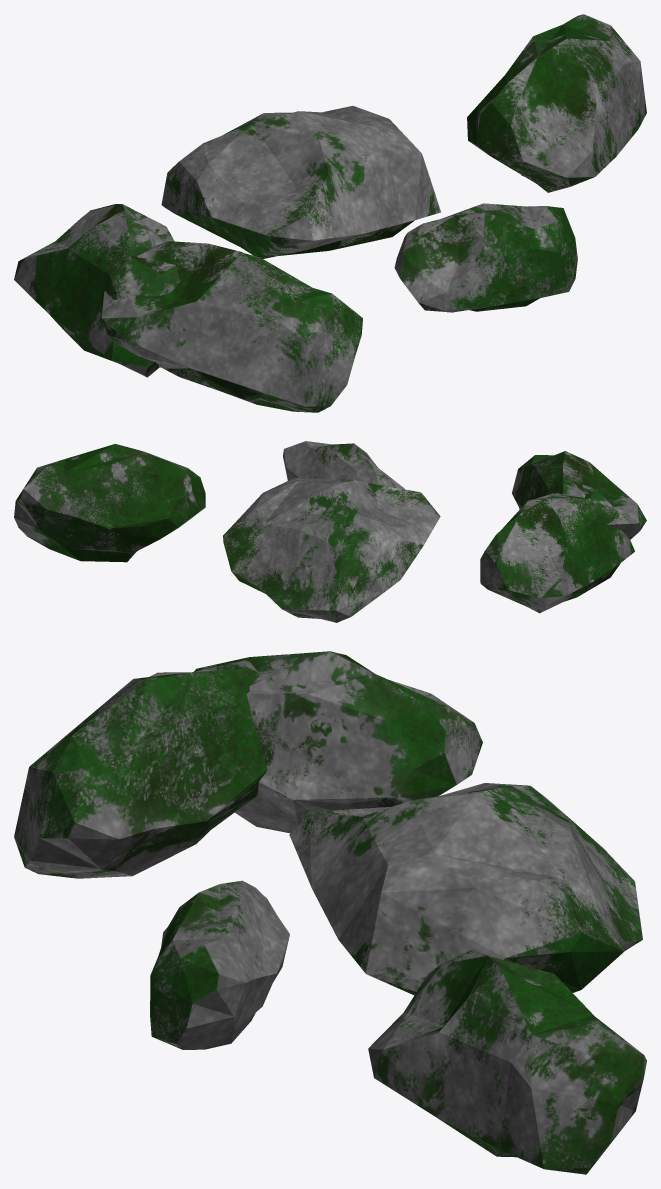
The model's file is Mossy_Rocks.obj.
3 views of the same model, one above another, from view 1: azimuth 30°, elevation 25°; view 2: azimuth 150°, elevation 25°; view 3: azimuth 270°, elevation 25° (orthographic). The views are drawn at different scales.
Visible parts, largest first — view 1: mossy_rocks; view 2: mossy_rocks; view 3: mossy_rocks.
Boxes of the visible parts, left/top/right/bottom form: mossy_rocks: left=14, top=14, right=646, bottom=412; mossy_rocks: left=14, top=441, right=646, bottom=622; mossy_rocks: left=14, top=651, right=646, bottom=1174.
Size of the model in its own units: 10.93 by 2.43 by 6.94.
